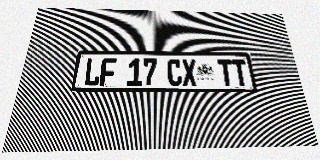1: (127, 59, 142, 86)
7: (142, 59, 157, 86)
C: (167, 59, 182, 86)
F: (99, 58, 116, 86)
L: (83, 58, 101, 86)
T: (217, 59, 235, 86), (231, 60, 249, 86)
X: (181, 59, 197, 86)
